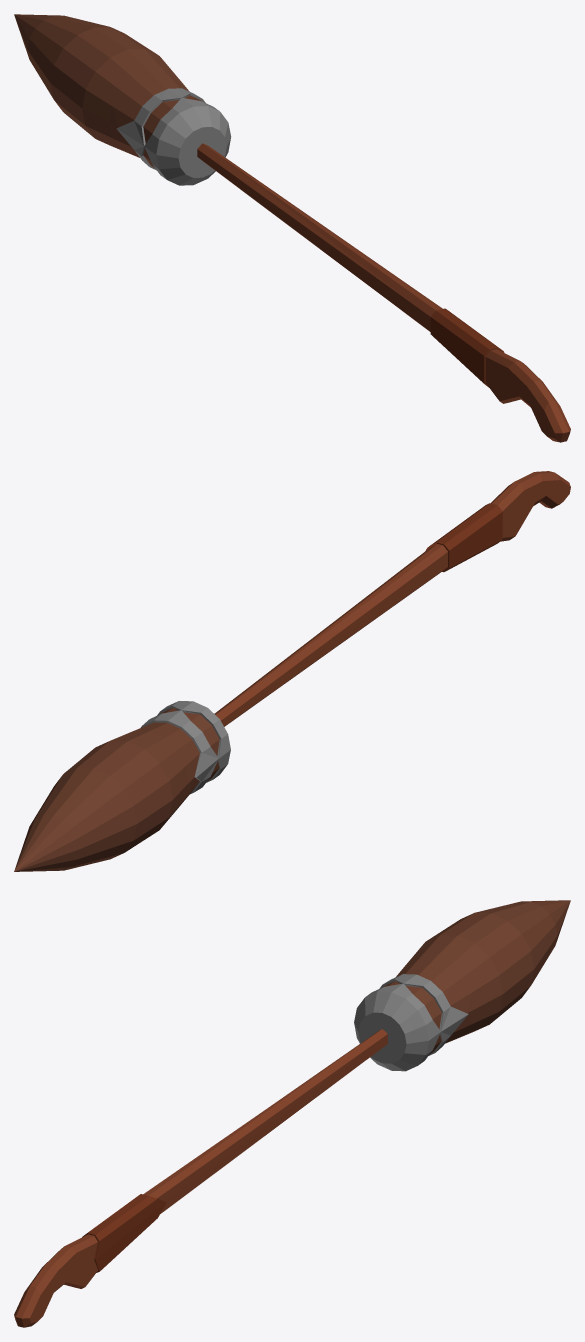
Rendered from baletoile_xxi.obj.
3 views of the same model, one above another, from view 1: azimuth 30°, elevation 25°; view 2: azimuth 150°, elevation 25°; view 3: azimuth 330°, elevation 25° (orthographic).
Parts seen in each view (by area): view 1: Body; view 2: Body; view 3: Body.
Boxes of the visible parts, x1,y1,x2,y2 form: Body: (14,14,570,442); Body: (14,471,570,871); Body: (14,900,570,1327).
Bounding box in the file's own units: 0.4351 × 0.4351 × 4.58.
